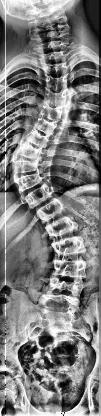Vertebrae: (47, 276, 85, 298), (44, 213, 76, 239), (51, 235, 87, 258), (24, 183, 52, 211), (36, 197, 64, 225), (52, 258, 88, 278), (14, 170, 43, 194), (14, 140, 44, 160), (11, 154, 38, 176), (39, 101, 65, 123), (33, 115, 57, 137), (24, 128, 48, 150), (42, 88, 68, 108), (40, 48, 70, 64), (44, 74, 70, 92), (42, 62, 70, 76)
